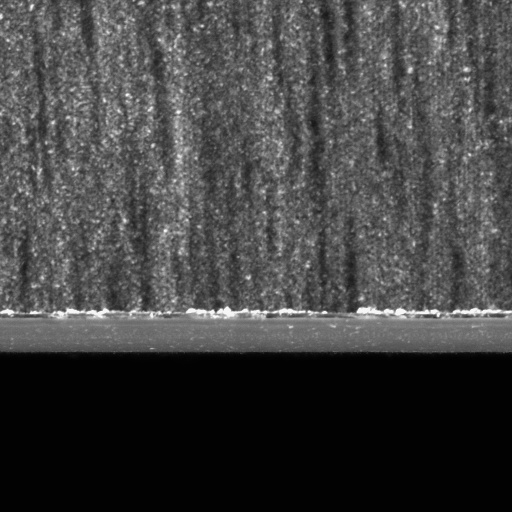jiaofeng: (245, 308, 354, 332), (404, 308, 511, 331)
